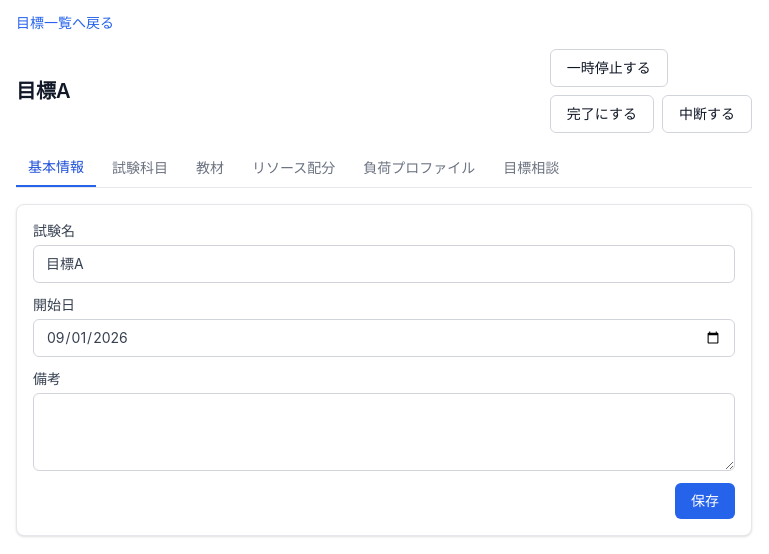
GoalDetailPage の種別ごとのタブ構成 › switches the shown tab when another one is picked
This screenshot has width=769, height=554.
Expected: the heading "目標A" is shown, [16,77,71,105]
Step 1. Click the button "試験科目" → (140, 168), box [100,149,180,187]
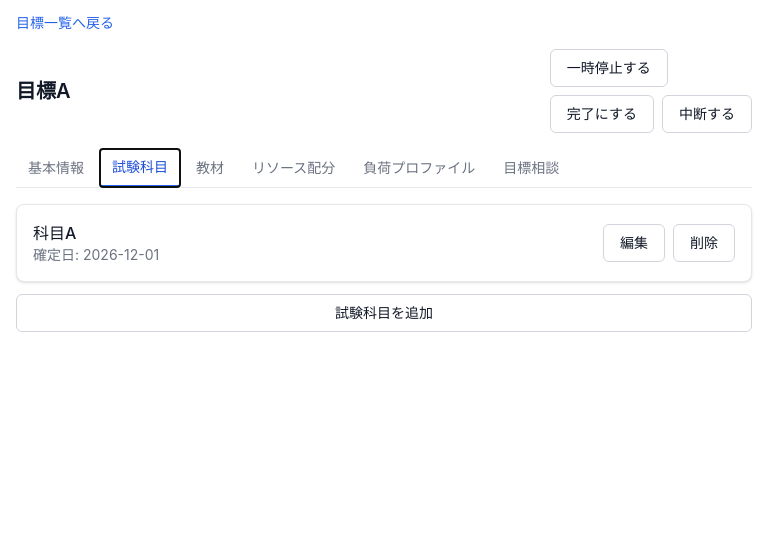
Now the button "試験科目を追加" is shown, box [16,294,752,332]
